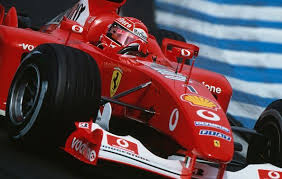FormulaOneCar: (2, 2, 281, 177)
